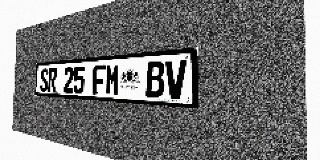2: (63, 67, 74, 93)
5: (73, 66, 85, 94)
B: (146, 61, 165, 98)
F: (92, 65, 106, 95)
M: (105, 64, 120, 96)
R: (48, 68, 57, 92)
S: (40, 68, 48, 92)
V: (165, 59, 187, 99)
